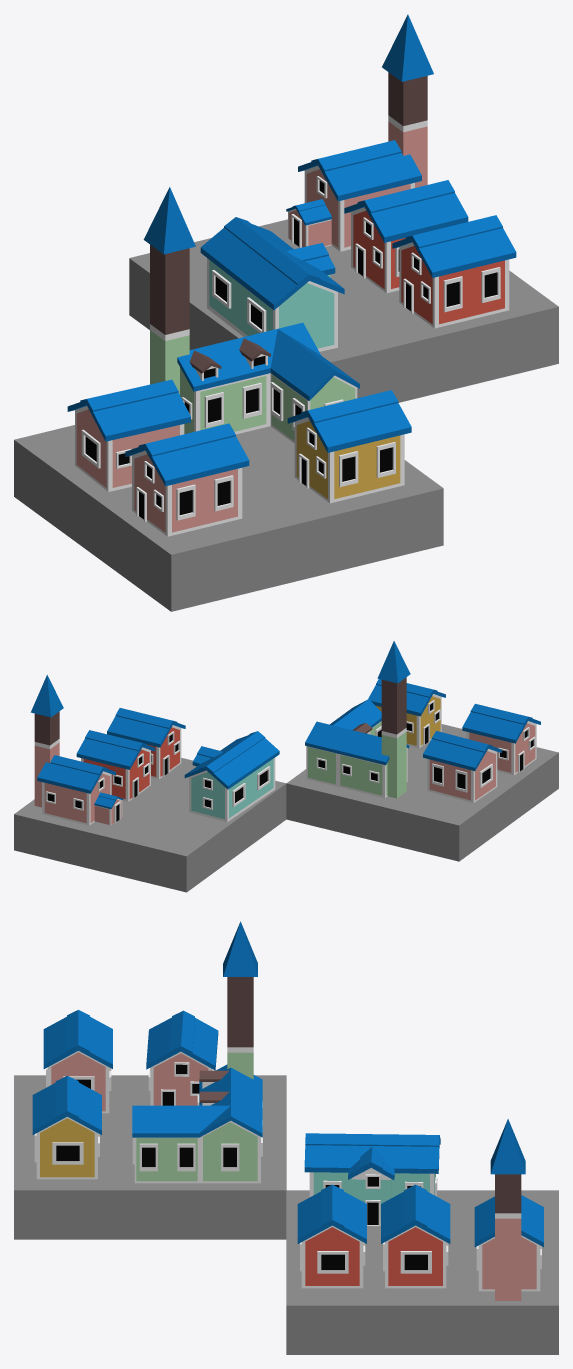
3 views of the same model, one above another, from view 1: azimuth 30°, elevation 25°; view 2: azimuth 150°, elevation 25°; view 3: azimuth 270°, elevation 25° (orthographic). The views are drawn at different scales.
Parts seen in each view (by area): view 1: Mesh_X_V2; view 2: Mesh_X_V2; view 3: Mesh_X_V2.
Boxes of the visible parts, <box> form: Mesh_X_V2: <box>14,14,558,611</box>; Mesh_X_V2: <box>14,641,558,892</box>; Mesh_X_V2: <box>14,921,558,1354</box>.
Size of the model in its own units: 200 by 105 by 200.
